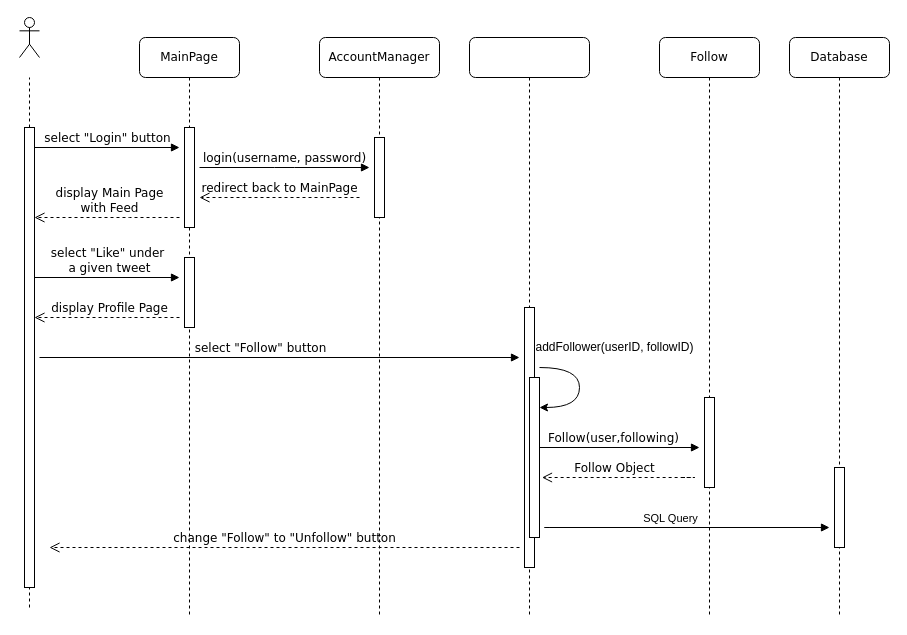
Some shapes in this 907 by 635 pixel diagram are drawn without their labels. Each missing label, with the box of its shape:
ProfilePage: (468, 36, 590, 618)
User: (18, 16, 40, 58)
